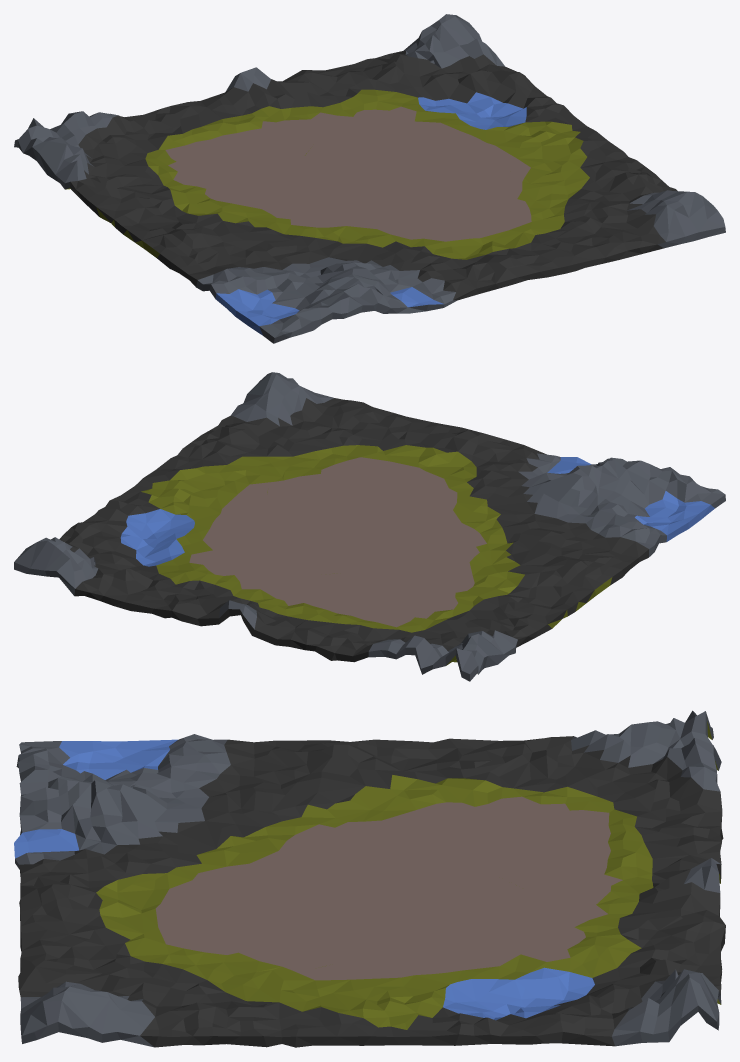
The model's file is terrain.glb.
3 renders of one model, top to bottom at view 1: azimuth 30°, elevation 25°; view 2: azimuth 150°, elevation 25°; view 3: azimuth 270°, elevation 25°, orthographic. The views are drawn at different scales.
Visible parts, largest first — view 1: Plane; view 2: Plane; view 3: Plane.
Boxes of the visible parts, x1,y1,x2,y2 form: Plane: [14, 14, 725, 343]; Plane: [14, 372, 725, 681]; Plane: [14, 710, 725, 1047].
Bounding box in the file's own units: 20.3 × 2.06 × 20.34.
